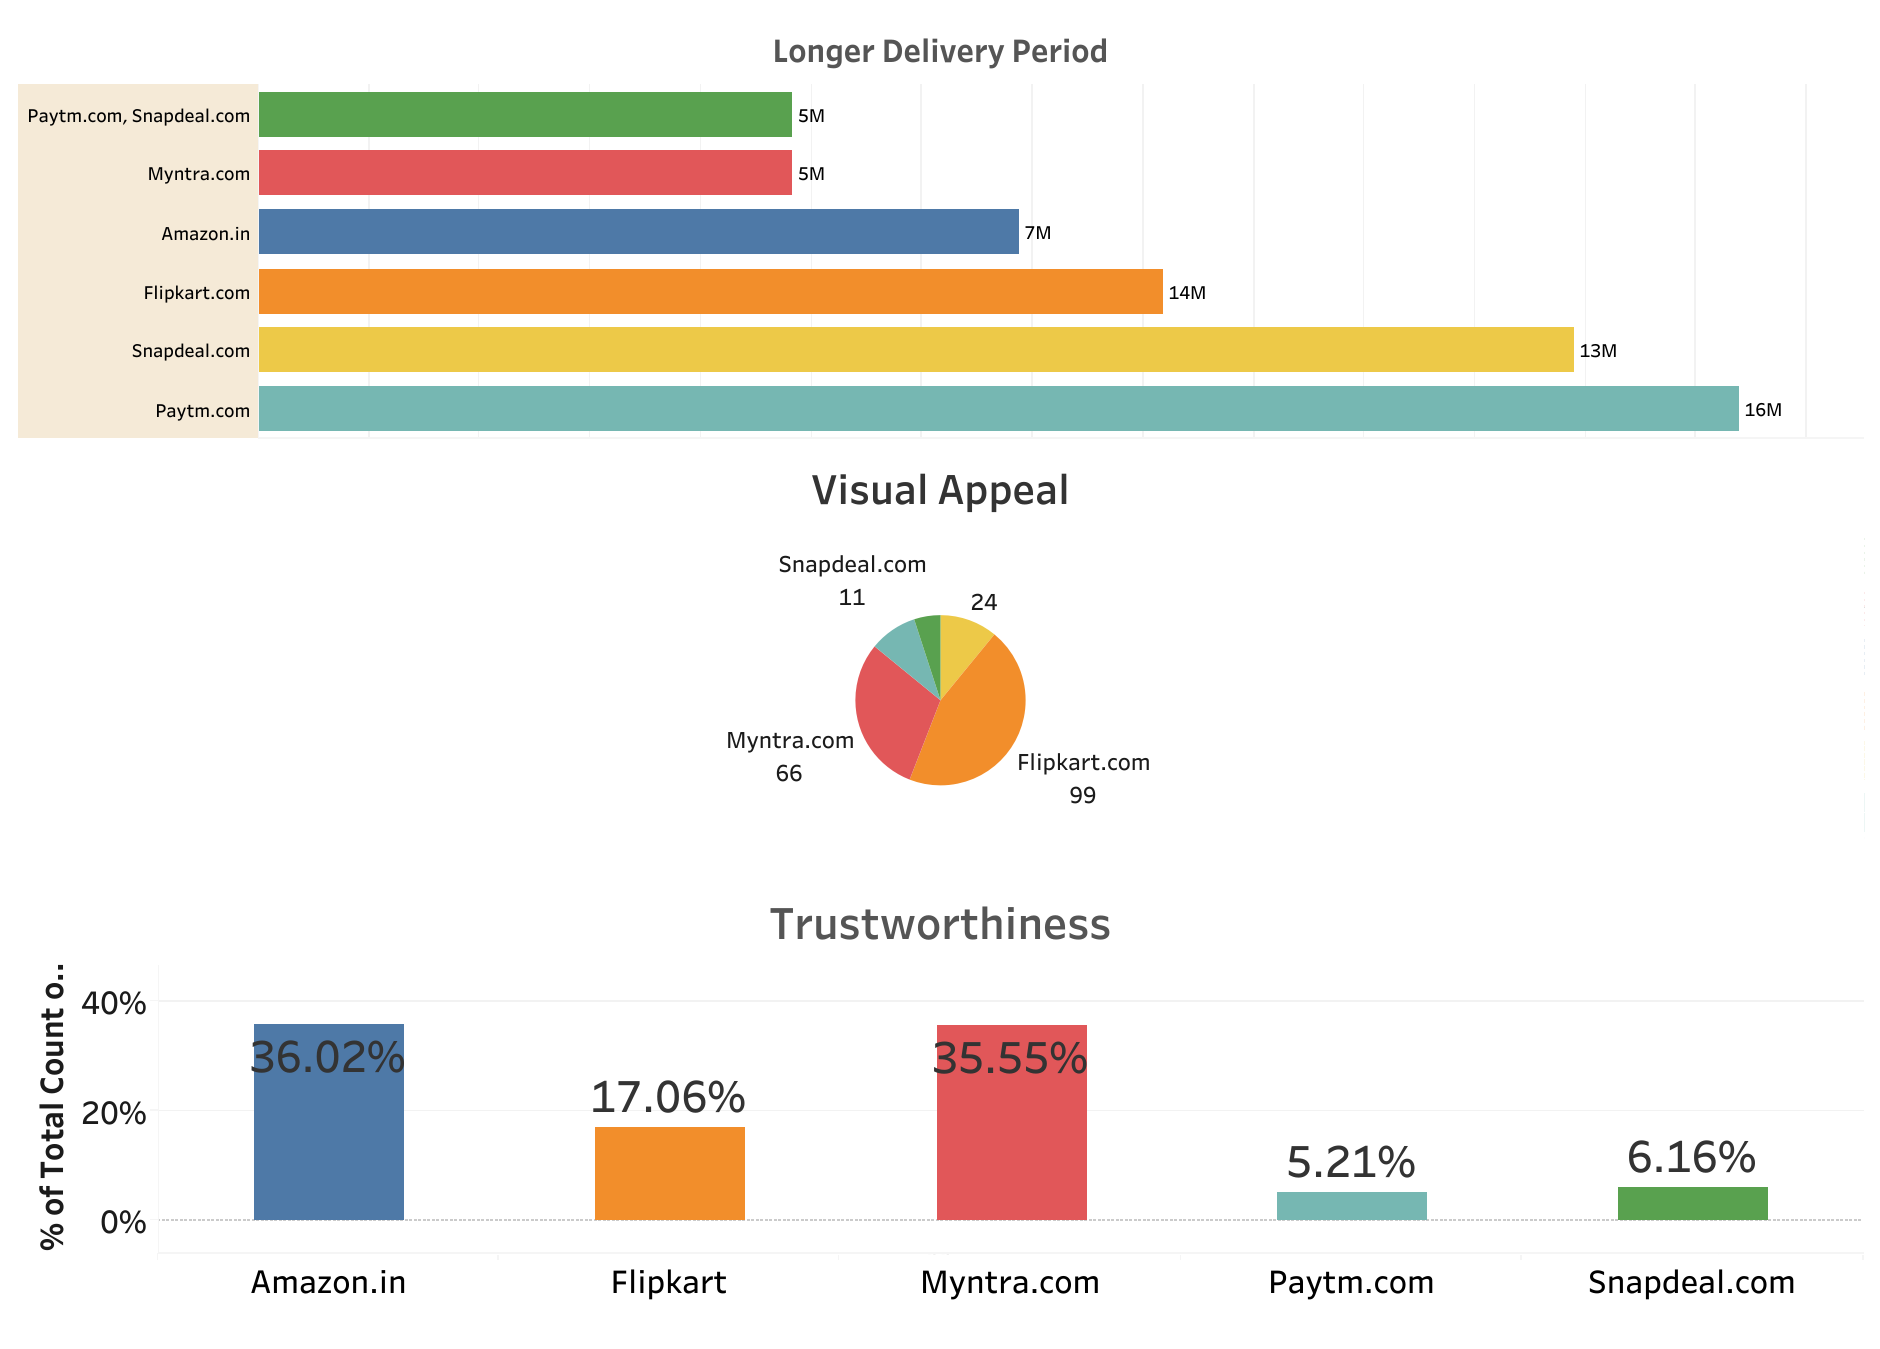

What the dashboard file says about the page in this screenshot:
{"tool":"tableau","page":{"name":"Dashboard 2","canvas":[1000,1000],"units":"permille","ordinal":1},"visuals":[{"type":"worksheet","title":"Sheet 1","mark":"Automatic","rows":["INFLUENCER","Brands"],"box":[5,9.8,535.9,471.9]},{"type":"worksheet","title":"Sheet 2","mark":"Square","rows":["INFLUENCER"],"box":[540.9,9.8,454.1,471.9]},{"type":"worksheet","title":"Sheet 3","mark":"Circle","box":[5,481.7,990,508.6]}]}

Visuals, with their boxes on the dashboard's canvas, which has no fixed pixel size, in thousandths of its width and height (x1, y1, x2, y2). These are canvas units, not pixel positions in the 1880x1349 screenshot, which may show the page scaled, cropped or inside an application window:
"Sheet 1" worksheet: {"x1": 5, "y1": 10, "x2": 541, "y2": 482}
"Sheet 2" worksheet (Square marks): {"x1": 541, "y1": 10, "x2": 995, "y2": 482}
"Sheet 3" worksheet (Circle marks): {"x1": 5, "y1": 482, "x2": 995, "y2": 990}
